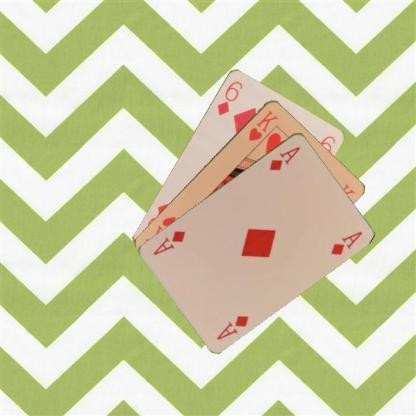6d: (214, 78, 244, 116)
Ad: (266, 143, 302, 172), (214, 312, 250, 341)
Kh: (246, 107, 280, 142)
